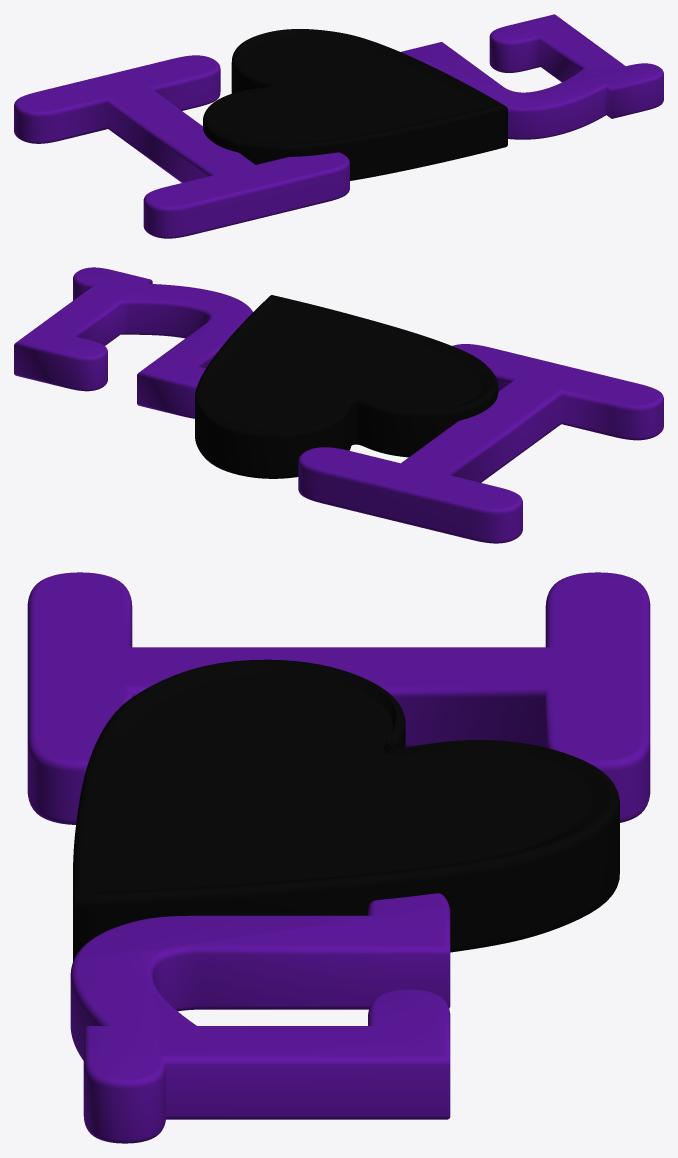
File: i_love_u.glb
The picture shows the model from 3 angles, top to bottom: view 1: azimuth 30°, elevation 25°; view 2: azimuth 150°, elevation 25°; view 3: azimuth 270°, elevation 25°; orthographic projection. The views are drawn at different scales.
Visible parts, largest first — view 1: Text021, Text020, Text022; view 2: Text021, Text020, Text022; view 3: Text021, Text022, Text020.
Boxes of the visible parts, <box> form: Text021: <box>203,29,507,180</box>; Text020: <box>14,55,349,238</box>; Text022: <box>401,14,663,139</box>; Text021: <box>195,295,498,478</box>; Text020: <box>298,344,663,543</box>; Text022: <box>14,267,252,418</box>; Text021: <box>73,659,619,961</box>; Text022: <box>70,893,450,1143</box>; Text020: <box>27,572,650,824</box>.
Bounding box in the file's own units: 0.0259 × 0.002 × 0.0133.
